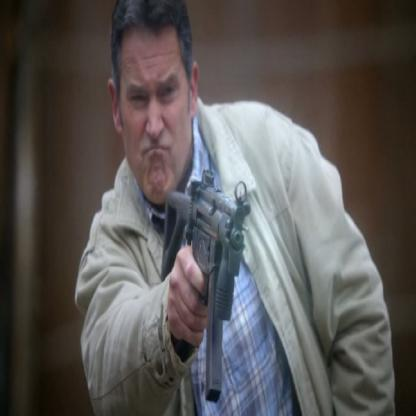Guns: (155, 166, 252, 405)
